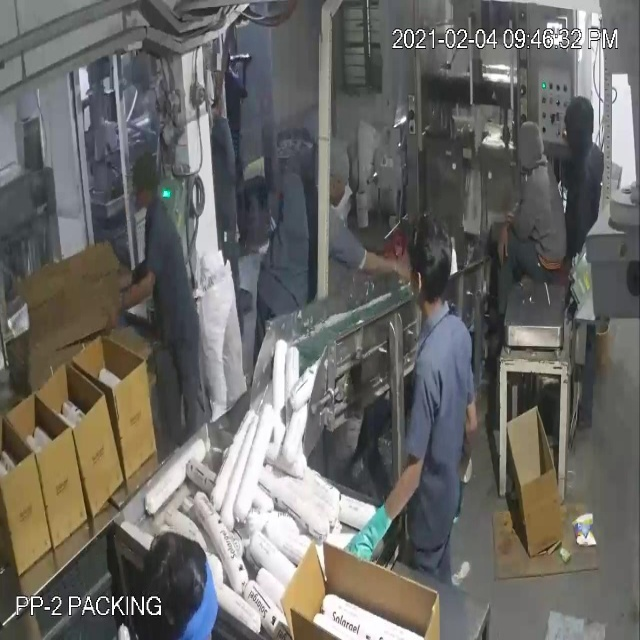Guantes: (336, 476, 416, 597)
Sin_guantes: (352, 238, 406, 297), (103, 275, 160, 312)
